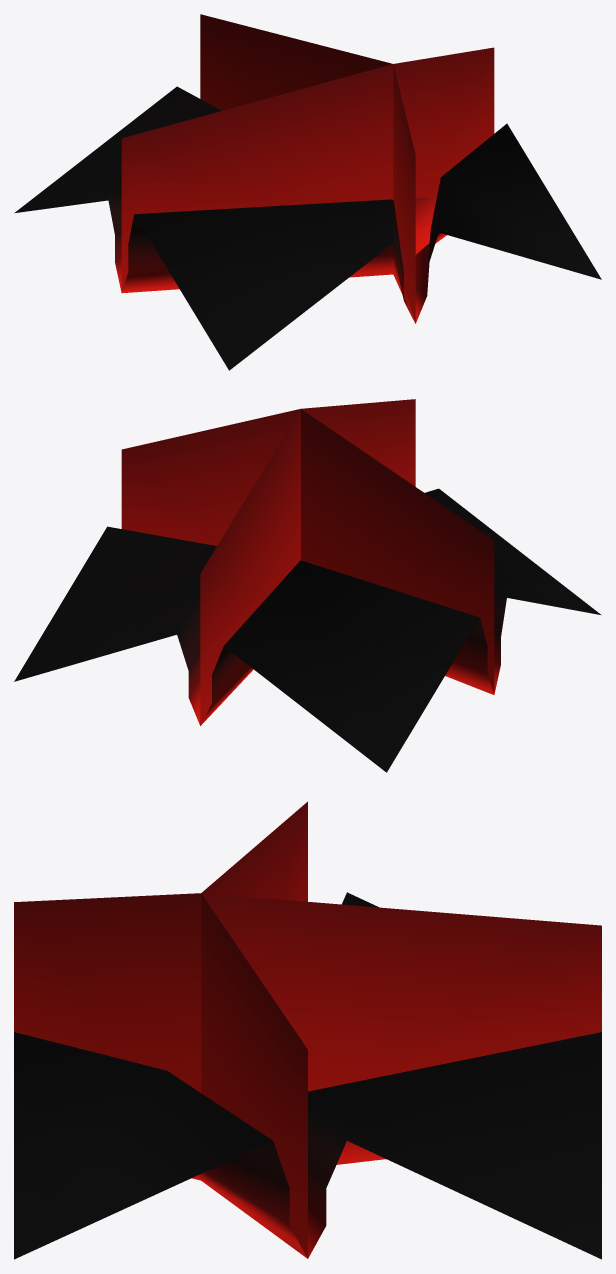
3 views of the same model, one above another, from view 1: azimuth 30°, elevation 25°; view 2: azimuth 150°, elevation 25°; view 3: azimuth 270°, elevation 25° (orthographic). The views are drawn at different scales.
Parts seen in each view (by area): view 1: 9266; view 2: 9266; view 3: 9266.
Part boxes in pixels (left/top/right/bottom): 9266: left=14, top=14, right=601, bottom=370; 9266: left=14, top=399, right=601, bottom=772; 9266: left=14, top=801, right=601, bottom=1259.
Bounding box in the file's own units: 1.28 × 0.6907 × 1.28.
